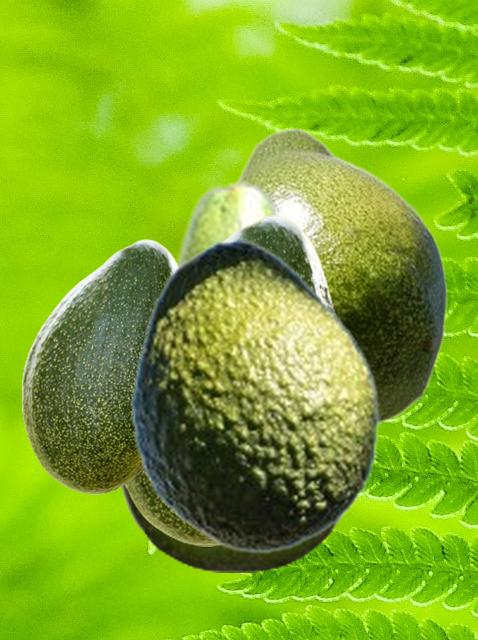avocado: (128, 238, 379, 553), (123, 215, 338, 545), (233, 127, 447, 425), (21, 239, 179, 493), (117, 486, 352, 571), (170, 177, 285, 263)
